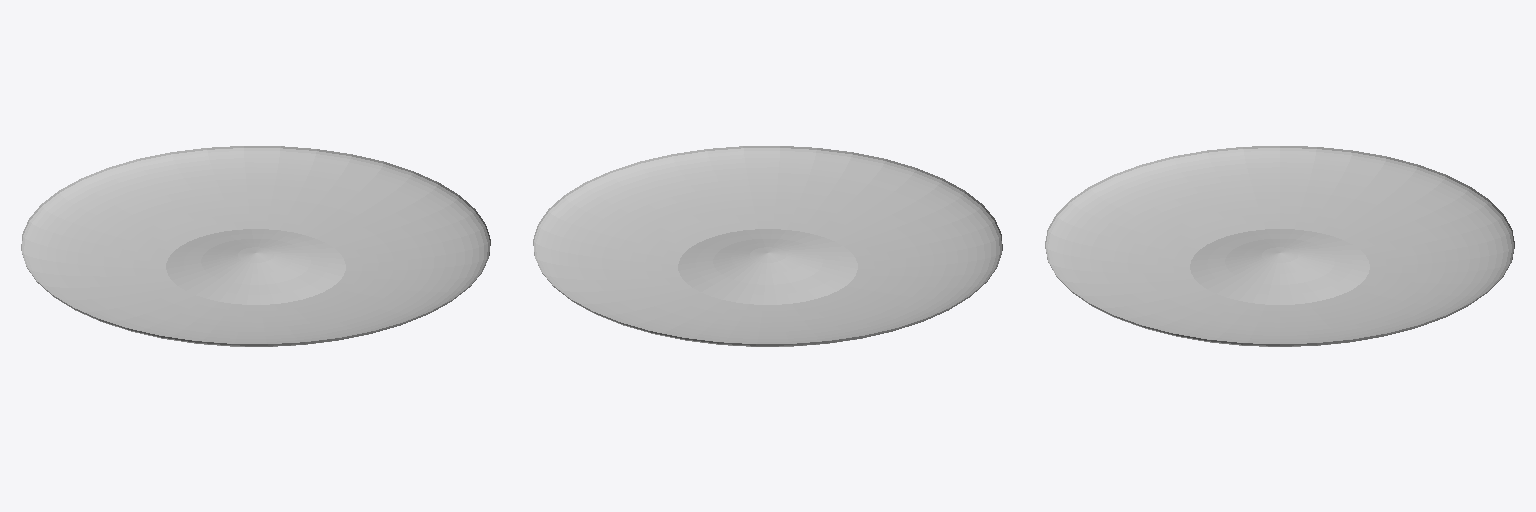
Rendered from bowl_d.obj.
3 renders of one model, left to right at view 1: azimuth 30°, elevation 25°; view 2: azimuth 150°, elevation 25°; view 3: azimuth 270°, elevation 25°, orthographic.
Visible parts, largest first — view 1: polySurface2 pPipe2; view 2: polySurface2 pPipe2; view 3: polySurface2 pPipe2.
Boxes of the visible parts, box(x1,y1,x2,y2) form: polySurface2 pPipe2: box(21, 146, 490, 346); polySurface2 pPipe2: box(533, 146, 1002, 346); polySurface2 pPipe2: box(1045, 146, 1514, 346).
Size of the model in its own units: 24 by 1.24 by 24.